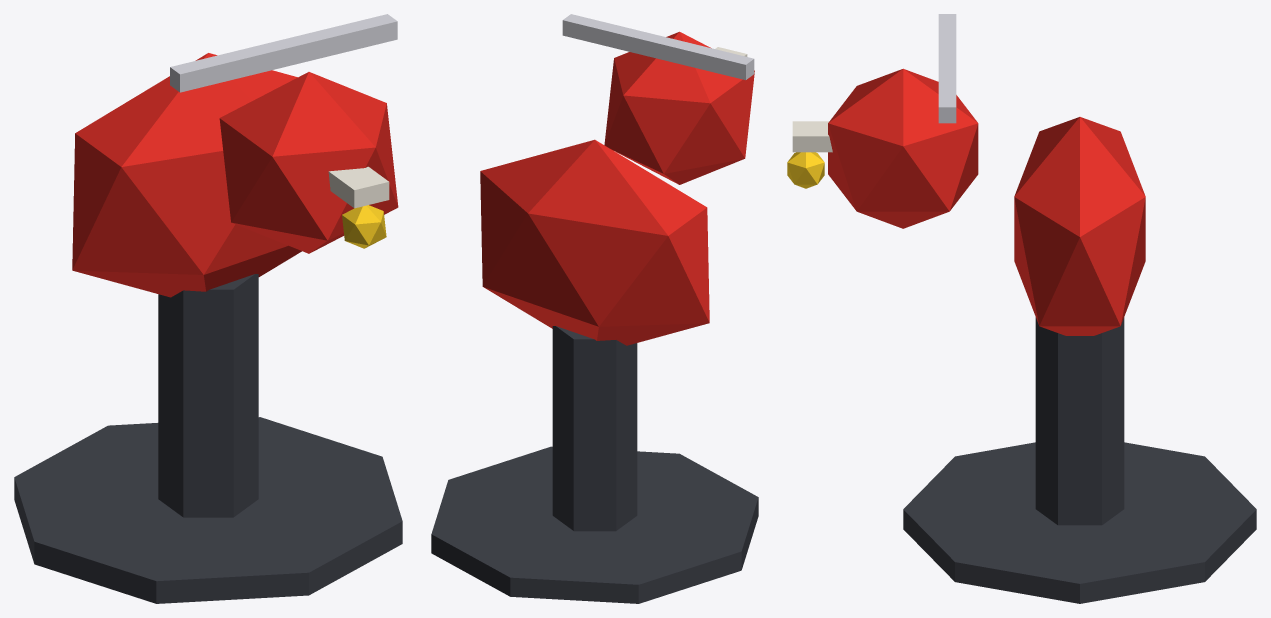
File: spring_rider.glb
3 renders of one model, left to right at view 1: azimuth 30°, elevation 25°; view 2: azimuth 150°, elevation 25°; view 3: azimuth 270°, elevation 25°, orthographic. The views are drawn at different scales.
Parts seen in each view (by area): view 1: spring_rider; view 2: spring_rider; view 3: spring_rider.
Part boxes in pixels (x1,y1,x2,y2): spring_rider: [14, 14, 402, 603]; spring_rider: [431, 14, 758, 603]; spring_rider: [787, 14, 1256, 603].
Bounding box in the file's own units: 0.8 × 1.17 × 1.06.
